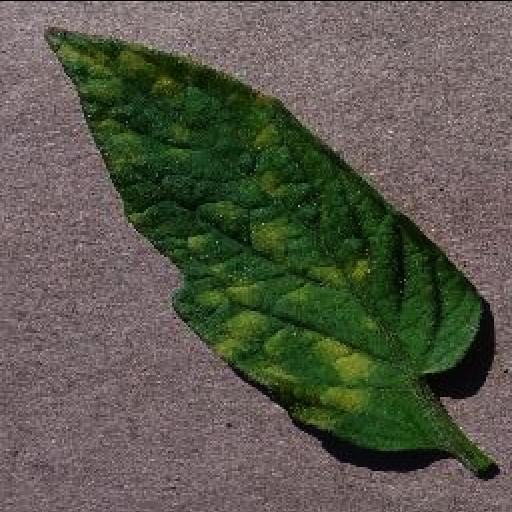disease_tomato: (42, 30, 482, 448)
